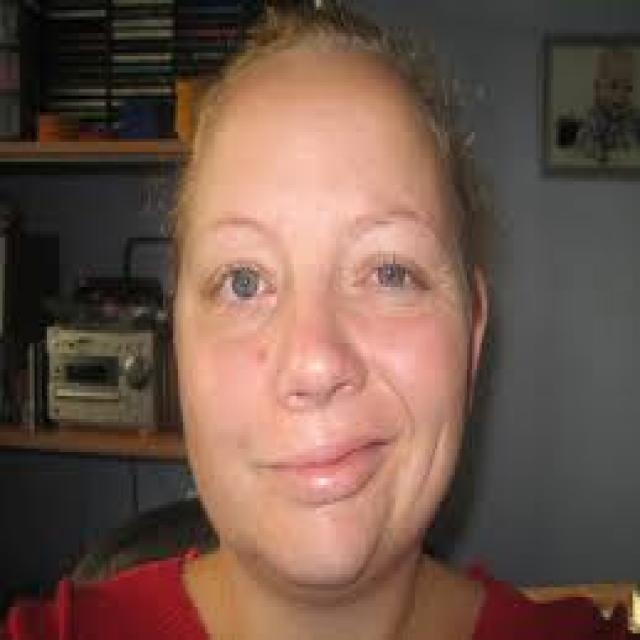stroke_face: (169, 48, 482, 593)
